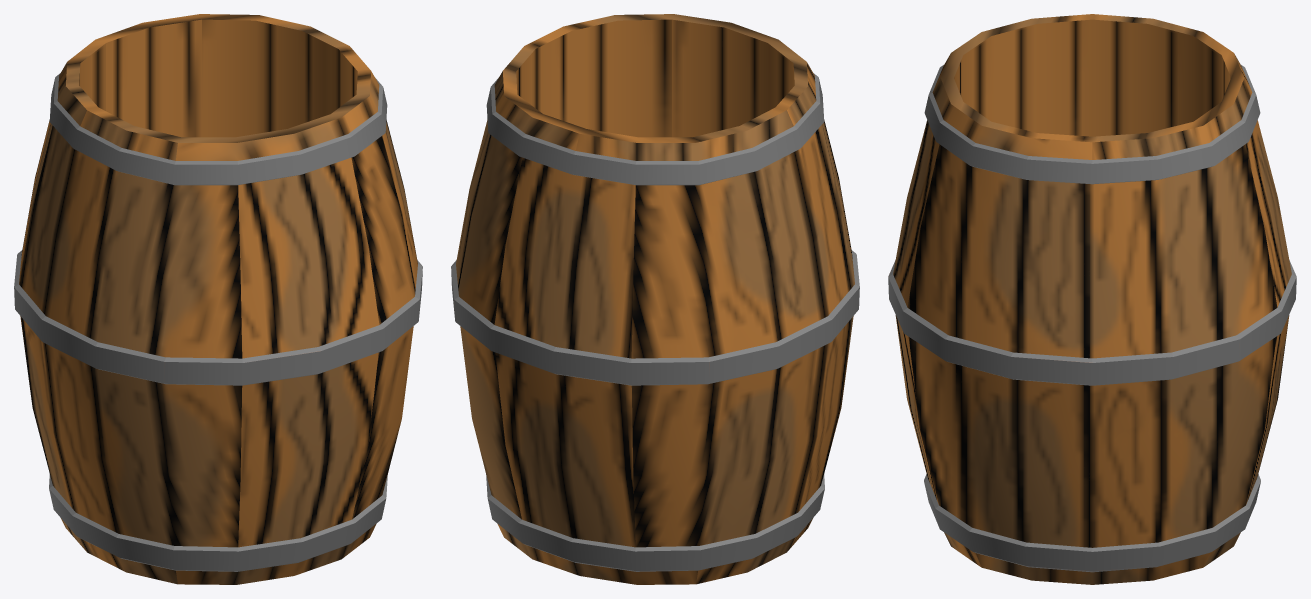
File: Barrel002.FBX
3 renders of one model, left to right at view 1: azimuth 30°, elevation 25°; view 2: azimuth 150°, elevation 25°; view 3: azimuth 270°, elevation 25°, orthographic.
Visible parts, largest first — view 1: Box001; view 2: Box001; view 3: Box001.
Part boxes in pixels (left/top/right/bottom): Box001: left=14, top=14, right=422, bottom=584; Box001: left=451, top=14, right=859, bottom=584; Box001: left=888, top=14, right=1296, bottom=584.
Bounding box in the file's own units: 11.55 × 13.81 × 11.55.
